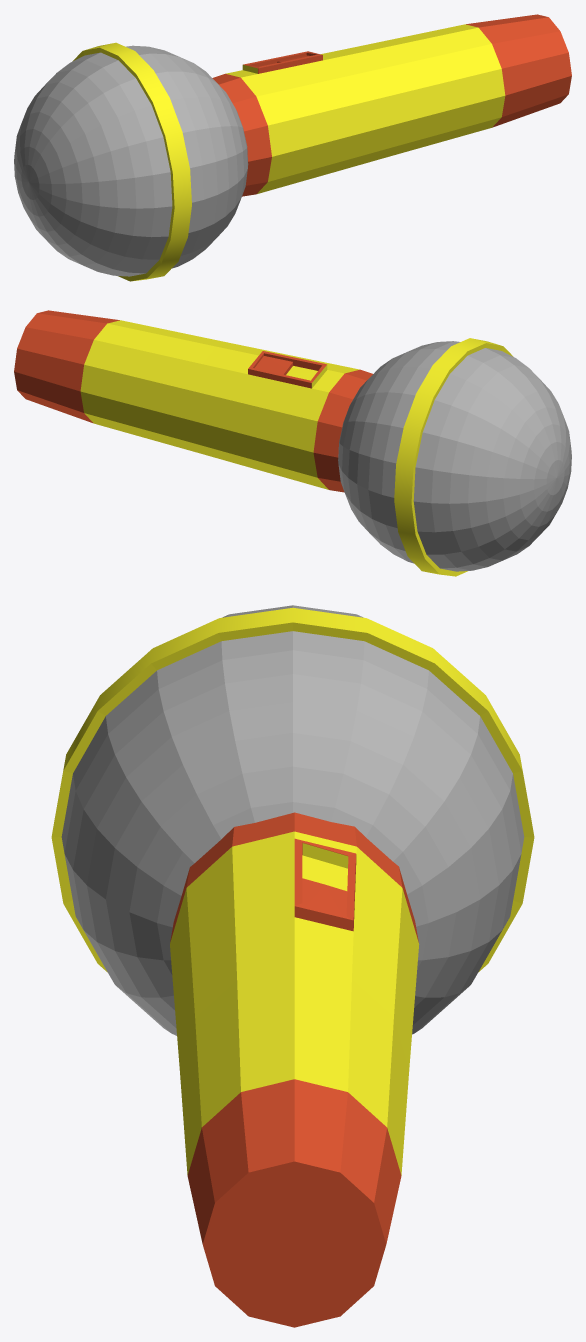
File: huatong.fbx
3 renders of one model, top to bottom at view 1: azimuth 30°, elevation 25°; view 2: azimuth 150°, elevation 25°; view 3: azimuth 270°, elevation 25°, orthographic. The views are drawn at different scales.
Visible parts, largest first — view 1: polySurface147, polySurface145, polySurface143; view 2: polySurface147, polySurface145, polySurface143; view 3: polySurface147, polySurface145, polySurface143.
Boxes of the visible parts, bbox=[...] form: polySurface147: bbox=[14, 45, 248, 276]; polySurface145: bbox=[72, 24, 505, 281]; polySurface143: bbox=[212, 14, 571, 196]; polySurface147: bbox=[338, 341, 571, 571]; polySurface145: bbox=[80, 320, 513, 576]; polySurface143: bbox=[14, 310, 372, 492]; polySurface147: bbox=[61, 605, 524, 1035]; polySurface145: bbox=[51, 607, 534, 1175]; polySurface143: bbox=[170, 812, 418, 1327].
Size of the model in its own units: 1.99 by 0.8 by 0.798.
